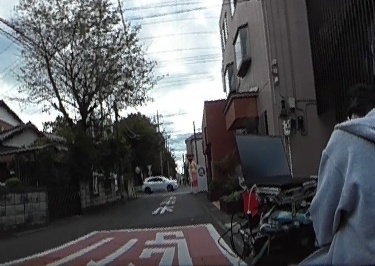person: (310, 86, 375, 266)
